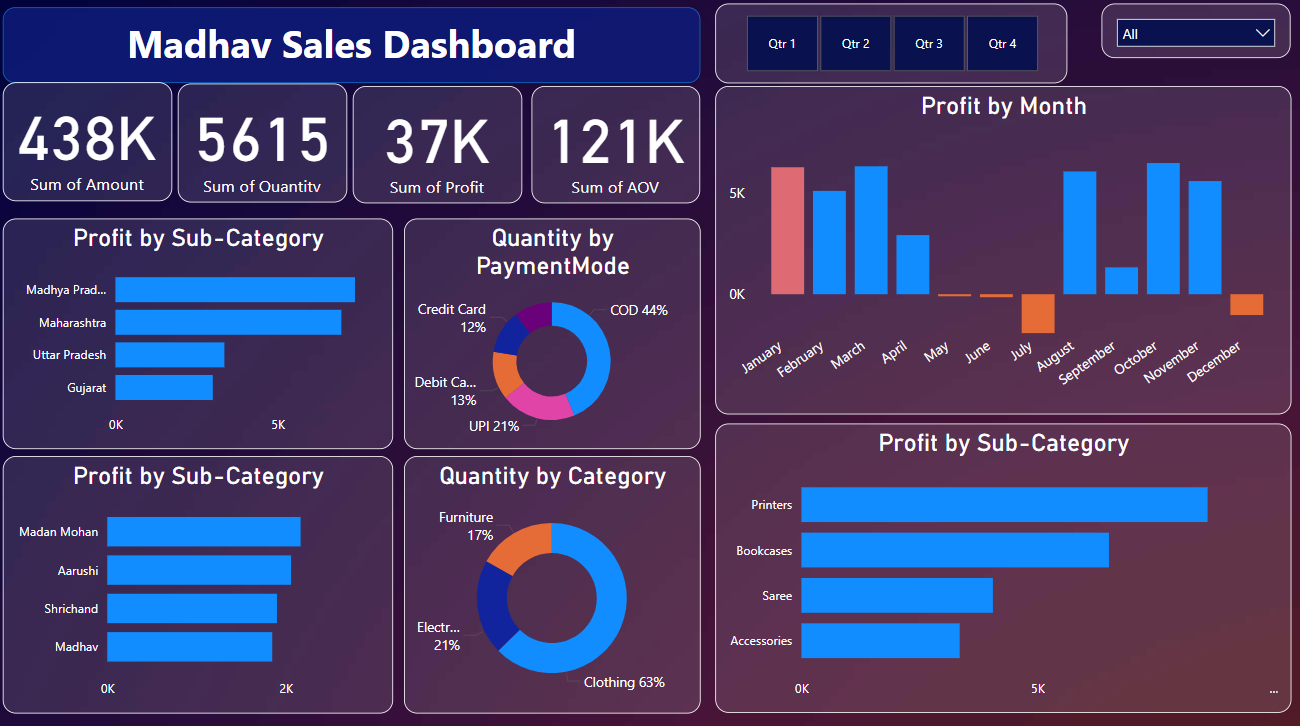

This screenshot's page, from the dashboard's own definition file:
{"tool":"powerbi","page":{"name":"Page 1","canvas":[1280,720],"ordinal":0},"visuals":[{"type":"textbox","box":[4.1,11,684.7,74.1],"z":0},{"type":"columnChart","title":"Profit by Month","fields":{"Category":["Orders.Order Date.Variation.Date Hierarchy.Month"],"Y":["Details.Profit"]},"box":[702.6,87.8,565.4,322.5],"z":1},{"type":"clusteredBarChart","title":"Profit by Sub-Category","fields":{"Category":["Details.Sub-Category"],"Y":["Details.Profit"]},"box":[702.6,419.9,565.4,284],"z":2},{"type":"donutChart","title":"Quantity by Category","fields":{"Y":["Details.Quantity"],"Category":["Details.Category"]},"box":[397.9,451.5,290.9,252.5],"z":3},{"type":"donutChart","title":"Quantity by PaymentMode","fields":{"Category":["Details.PaymentMode"],"Y":["Details.Quantity"]},"box":[397.9,218.2,290.9,226.4],"z":4},{"type":"card","fields":{"Values":["Details.Amount"]},"box":[4.1,85.1,166,116.6],"z":5},{"type":"card","fields":{"Values":["Details.Profit"]},"box":[347.2,87.8,166,115.3],"z":6},{"type":"card","fields":{"Values":["Details.Quantity"]},"box":[175.6,86.4,166,116.6],"z":7},{"type":"card","fields":{"Values":["Details.AOV"]},"box":[522.7,88.3,165.6,115.3],"z":8},{"type":"clusteredBarChart","title":"Profit by Sub-Category","fields":{"Category":["Orders.State"],"Y":["Details.Profit"]},"box":[4.1,218.2,382.8,226.4],"z":9},{"type":"clusteredBarChart","title":"Profit by Sub-Category","fields":{"Y":["Details.Profit"],"Category":["Orders.CustomerName"]},"box":[4.1,451.5,382.8,252.5],"z":10},{"type":"slicer","fields":{"Values":["Orders.Order Date.Variation.Date Hierarchy.Quarter"]},"box":[702.6,6.9,345.8,78.2],"z":11},{"type":"slicer","fields":{"Values":["Orders.State"]},"box":[1082.7,6.9,185.2,53.5],"z":12}]}

Visuals, with their boxes in screenshot pixels (x1, y1, x2, y2), scaled from the page's 1280x720 canvas onto the 1300x726 screenshot:
textbox: pyautogui.locateOnScreen(4, 11, 700, 86)
"Profit by Month" columnChart: pyautogui.locateOnScreen(714, 89, 1288, 414)
"Profit by Sub-Category" clusteredBarChart: pyautogui.locateOnScreen(714, 423, 1288, 710)
"Quantity by Category" donutChart: pyautogui.locateOnScreen(404, 455, 700, 710)
"Quantity by PaymentMode" donutChart: pyautogui.locateOnScreen(404, 220, 700, 448)
card - Details.Amount: pyautogui.locateOnScreen(4, 86, 173, 203)
card - Details.Profit: pyautogui.locateOnScreen(353, 89, 521, 205)
card - Details.Quantity: pyautogui.locateOnScreen(178, 87, 347, 205)
card - Details.AOV: pyautogui.locateOnScreen(531, 89, 699, 205)
"Profit by Sub-Category" clusteredBarChart: pyautogui.locateOnScreen(4, 220, 393, 448)
"Profit by Sub-Category" clusteredBarChart: pyautogui.locateOnScreen(4, 455, 393, 710)
slicer - Orders.Order Date.Variation.Date Hierarchy.Quarter: pyautogui.locateOnScreen(714, 7, 1065, 86)
slicer - Orders.State: pyautogui.locateOnScreen(1100, 7, 1288, 61)
